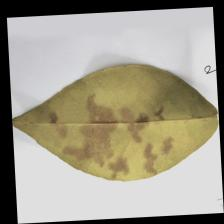black spot: (50, 95, 168, 159)
